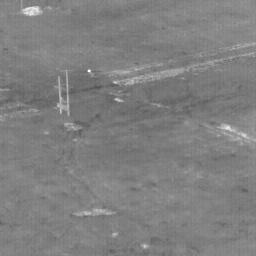aircraft: (88, 70, 90, 72)
